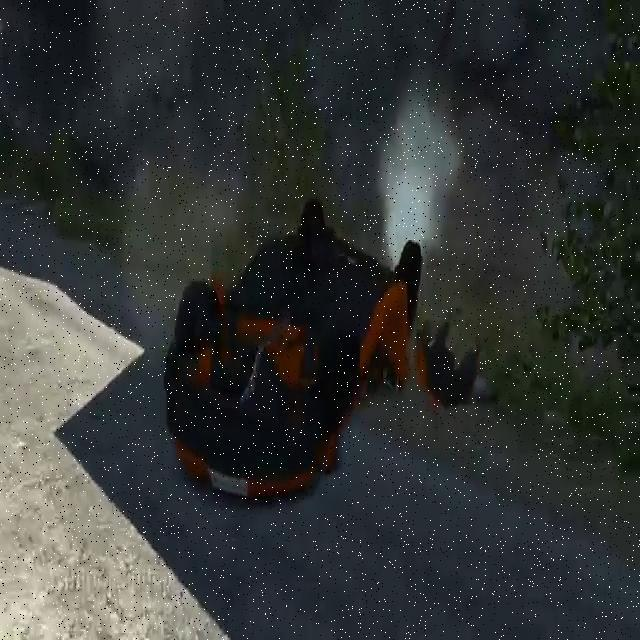high-cars-accident: (93, 152, 473, 546)
